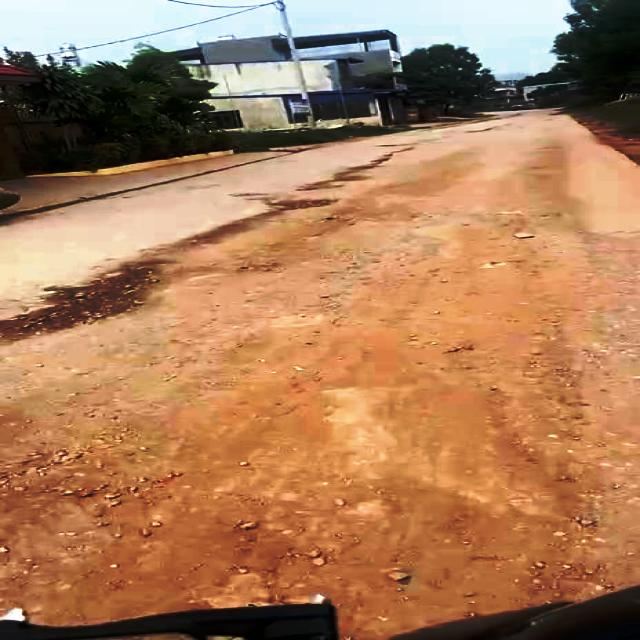pothole: (0, 250, 190, 344), (262, 194, 337, 212)
